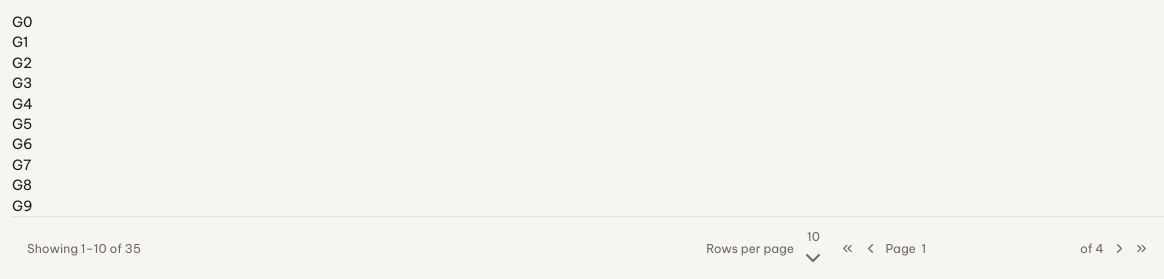
Test case: DataTablePager — page-jump input › navigates to a typed page number
Replace the text in the field named "page number" with "3". click: (998, 249)
box: [921, 240, 1074, 258]
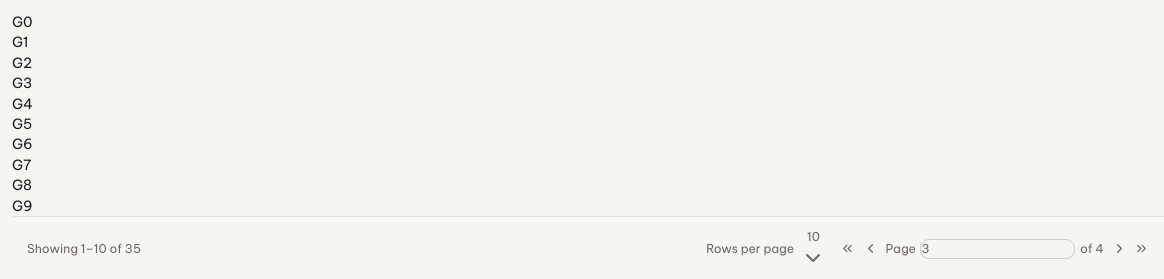
# commit the jump
Press Enter
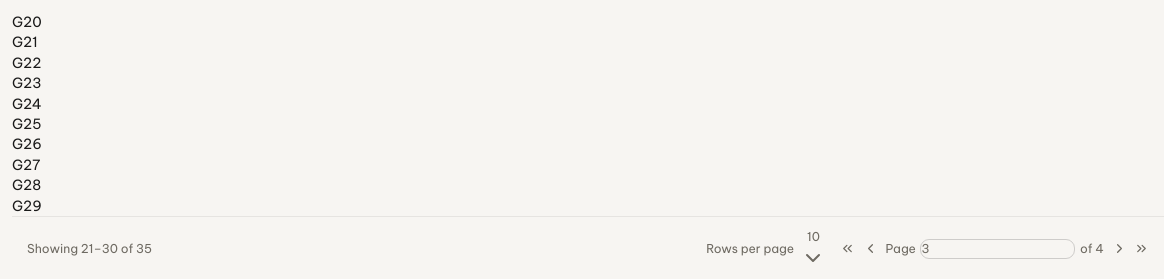
Now the list item "G20" is shown, box [12, 13, 42, 31]
